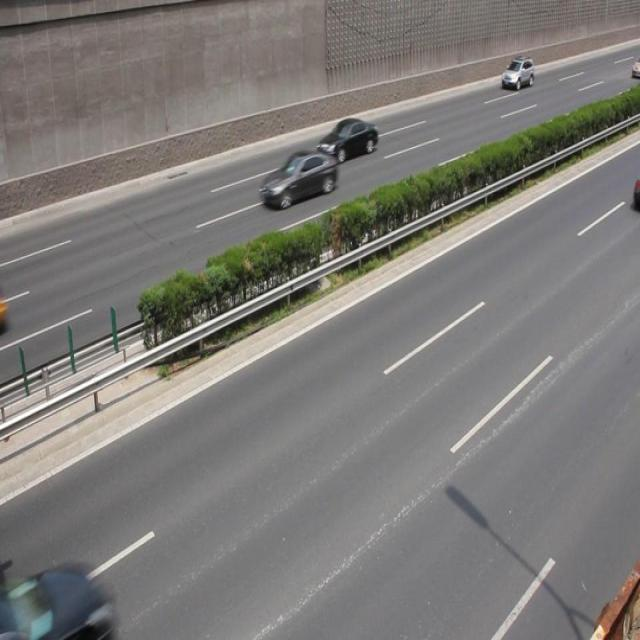car: (258, 148, 336, 210), (314, 116, 378, 164), (499, 56, 534, 90)
